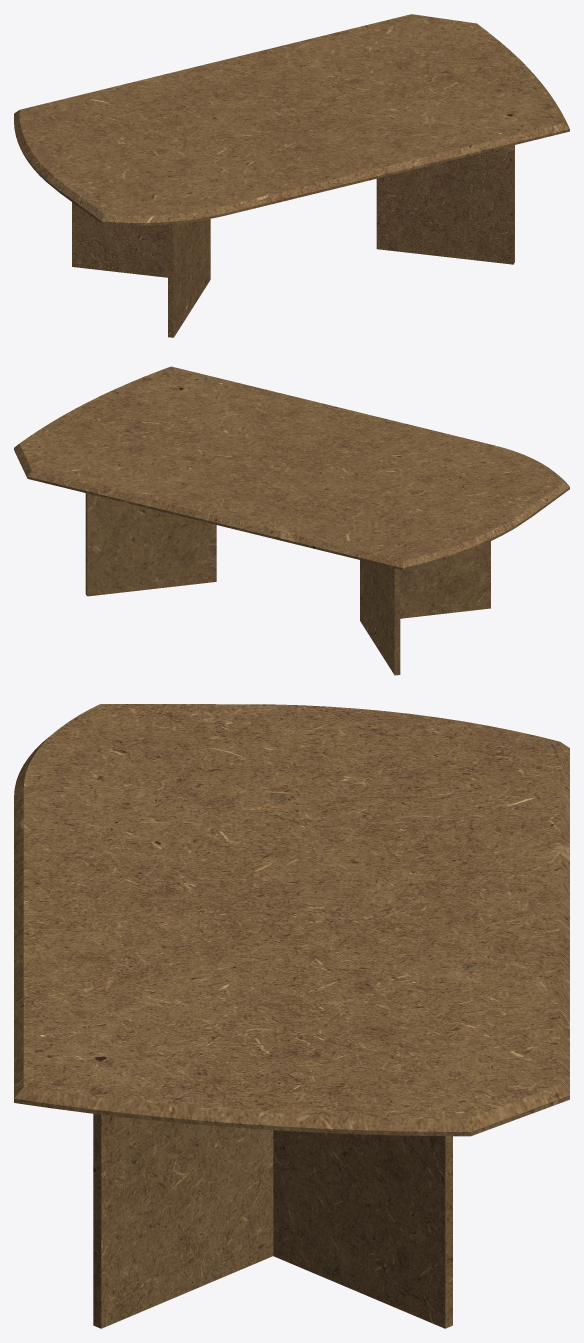
Rendered from desk.gltf.
3 views of the same model, one above another, from view 1: azimuth 30°, elevation 25°; view 2: azimuth 150°, elevation 25°; view 3: azimuth 270°, elevation 25° (orthographic). The views are drawn at different scales.
Visible parts, largest first — view 1: Desk_Studio.007; view 2: Desk_Studio.007; view 3: Desk_Studio.007.
Boxes of the visible parts, x1,y1,x2,y2 form: Desk_Studio.007: [14, 14, 569, 337]; Desk_Studio.007: [14, 366, 569, 675]; Desk_Studio.007: [14, 704, 569, 1328].
Size of the model in its own units: 2.57 by 0.7521 by 1.43.
1 material, 1 textured.
